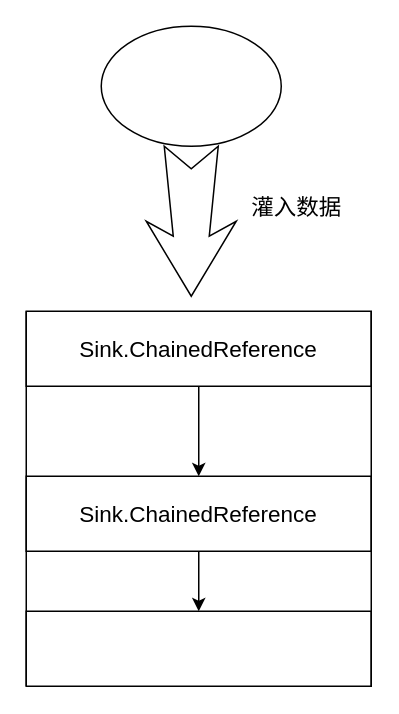
Image size: 399x714. Some labels were removed from this diagram. Each missing label, with the centre of its shape:
ReducingSink: the point at 198,648
Spliterator: the point at 190,85
